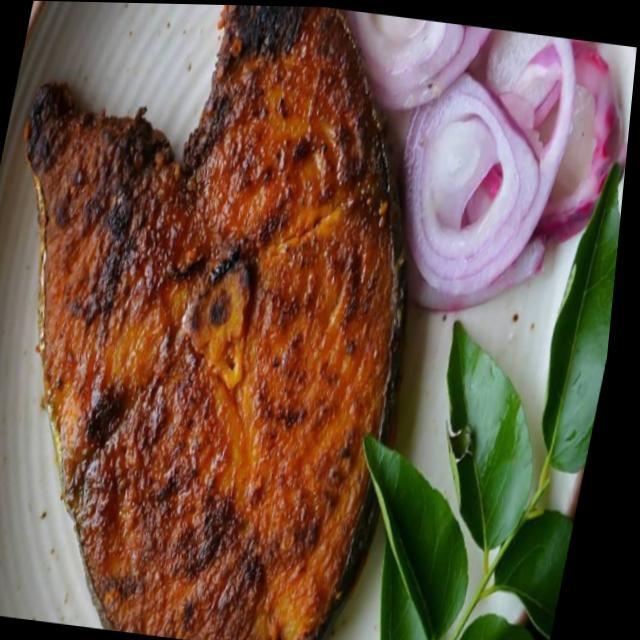FISH FRY: (22, 5, 406, 640)
